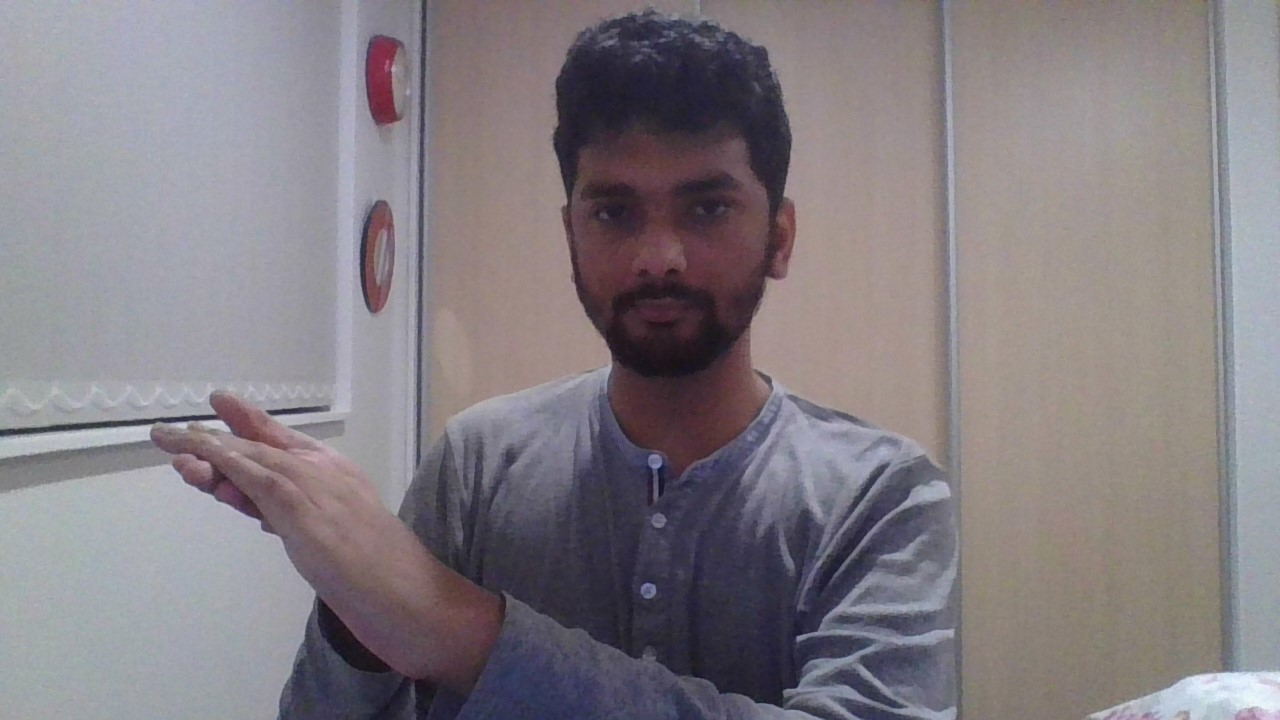clear: (152, 390, 452, 677)
